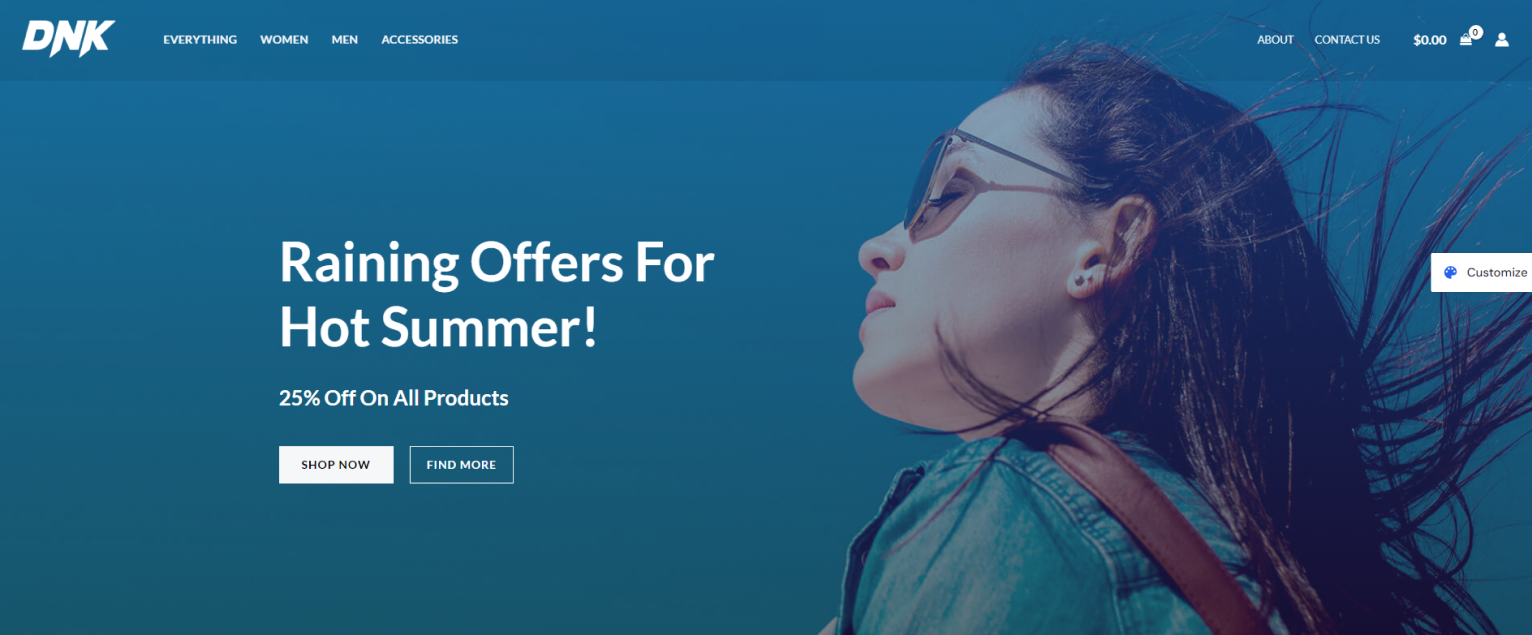menu: (6, 3, 1514, 135)
